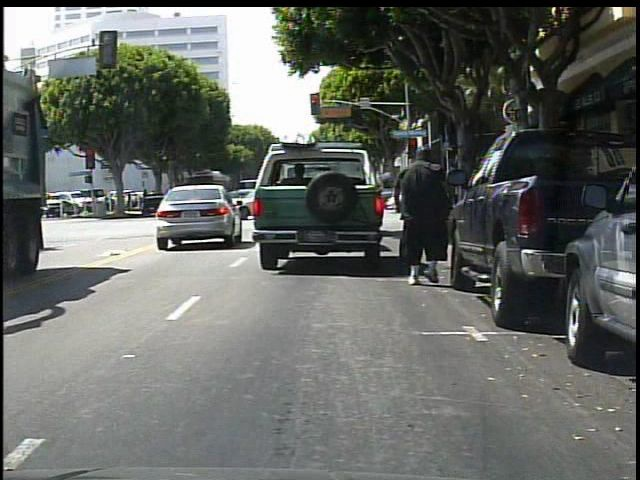person: (397, 144, 455, 289)
